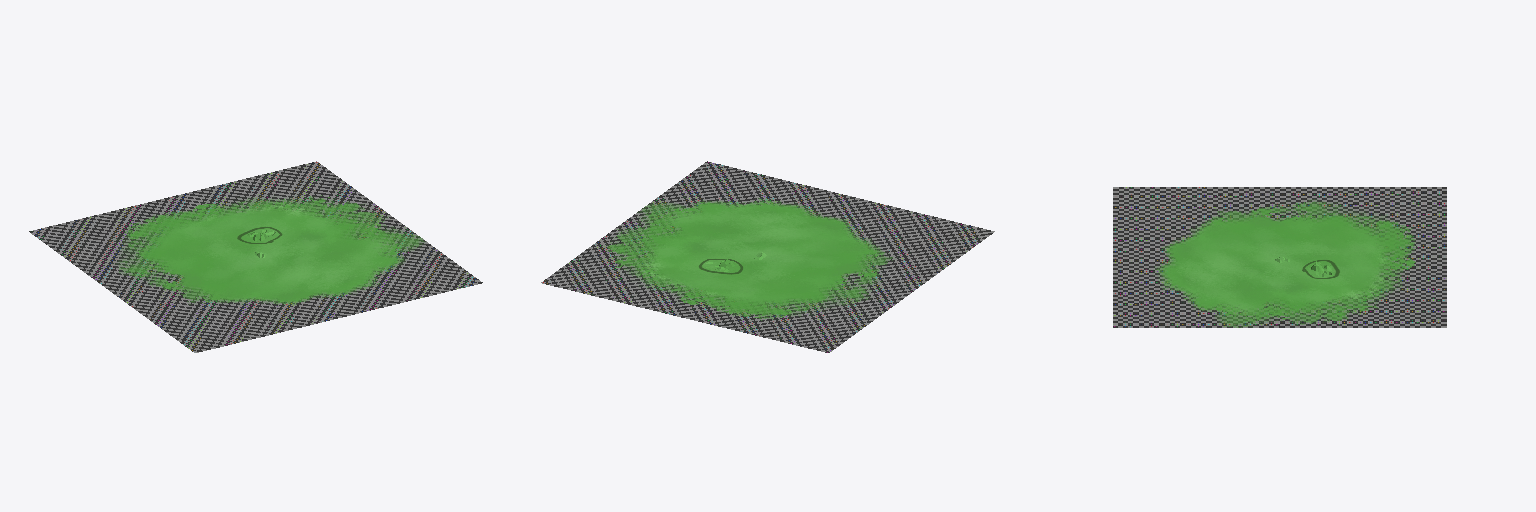
3 views of the same model, side by side, from view 1: azimuth 30°, elevation 25°; view 2: azimuth 150°, elevation 25°; view 3: azimuth 270°, elevation 25° (orthographic).
Visible parts, largest first — view 1: Terrain_Plane; view 2: Terrain_Plane; view 3: Terrain_Plane.
Boxes of the visible parts, box(x1,y1,x2,y2) form: Terrain_Plane: box(29, 161, 482, 352); Terrain_Plane: box(541, 161, 994, 352); Terrain_Plane: box(1113, 187, 1446, 327).
Size of the model in its own units: 200 by 6.11 by 200.
1 materials, 1 textured.